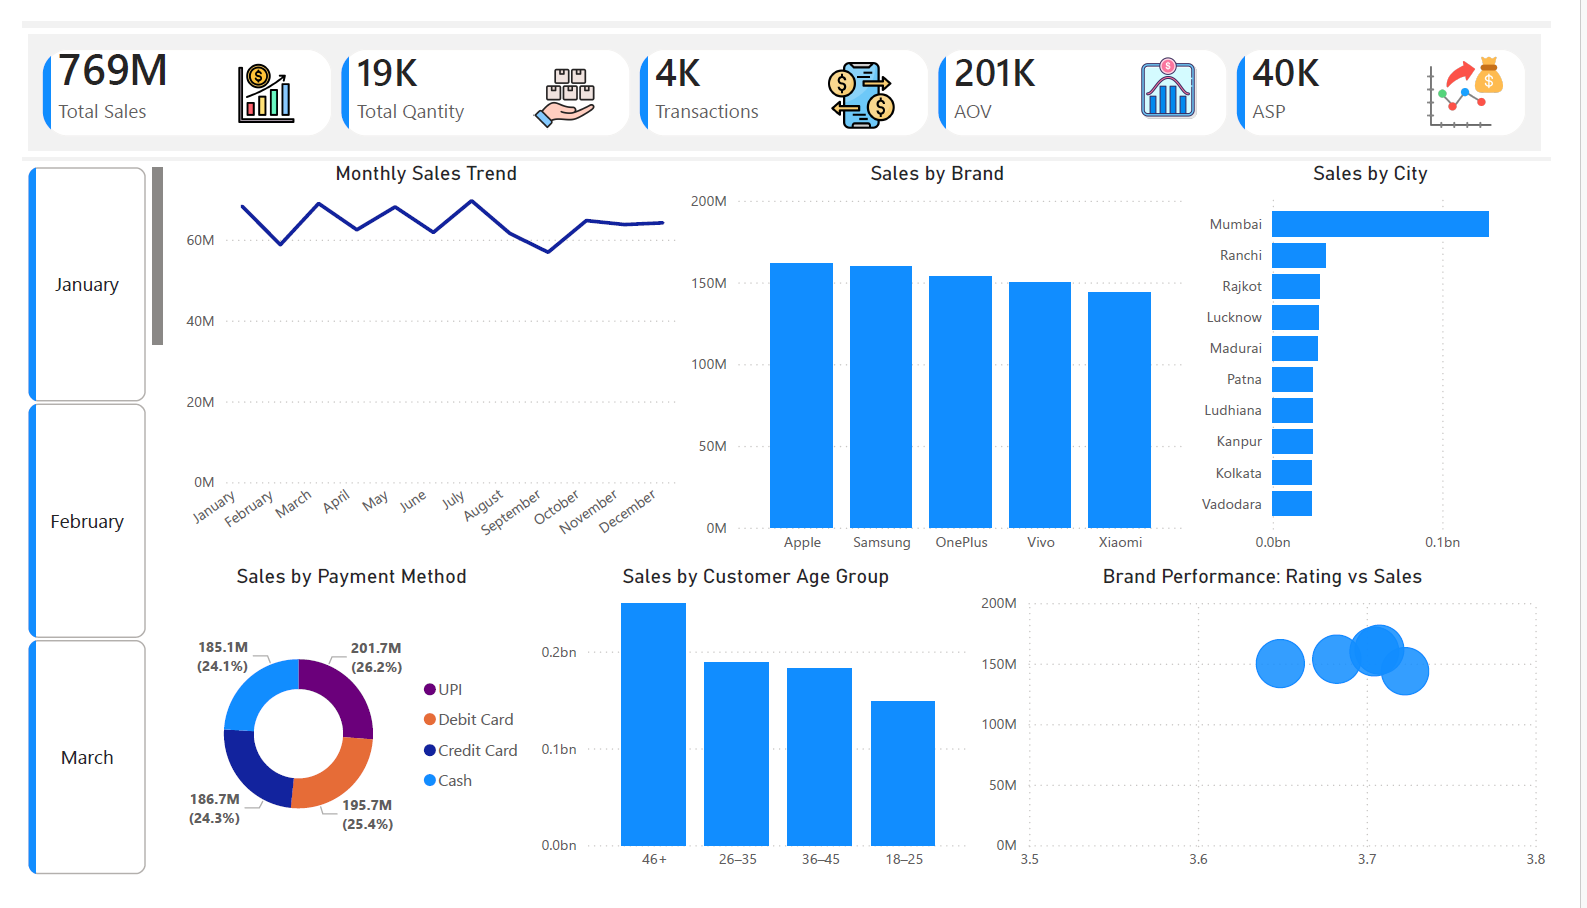

This screenshot's page, from the dashboard's own definition file:
{"tool":"powerbi","page":{"name":"Page 1","canvas":[1280,720],"ordinal":0},"visuals":[{"type":"cardVisual","fields":{"Data":["Mobile Sales Data.Total Sales","Mobile Sales Data.Total Qantity","Mobile Sales Data.Transections","Mobile Sales Data.AOV","Mobile Sales Data.ASP"]},"box":[0,6,1280,107.4],"z":0},{"type":"image","box":[178.6,30.2,51.9,60.3],"z":1000},{"type":"image","box":[418.6,38.6,68.8,51.9],"z":2000},{"type":"image","box":[674.4,30.2,56.7,62.7],"z":3000},{"type":"image","box":[933.8,20.5,53.1,70],"z":4000},{"type":"image","box":[1177.5,27.7,61.5,62.7],"z":5000},{"type":"advancedSlicerVisual","fields":{"Values":["Mobile Sales Data.Date.Variation.Date Hierarchy.Month"]},"box":[0,117,121.9,603.2],"z":6000},{"type":"lineChart","title":"Monthly Sales Trend","fields":{"Category":["Mobile Sales Data.Date.Variation.Date Hierarchy.Month"],"Y":["Mobile Sales Data.Total Sales"]},"box":[121.9,117,431.9,336.6],"z":7000},{"type":"clusteredColumnChart","title":"Sales by Brand","fields":{"Category":["Mobile Sales Data.Brand"],"Y":["Mobile Sales Data.Total Sales"]},"box":[553.8,117,424.7,336.6],"z":8000},{"type":"barChart","title":"Sales by City","fields":{"Category":["Mobile Sales Data.City"],"Y":["Mobile Sales Data.Total Sales"]},"box":[978.4,117,301.6,336.6],"z":9000},{"type":"donutChart","title":"Sales by Payment Method","fields":{"Category":["Mobile Sales Data.Payment Method"],"Y":["Mobile Sales Data.Total Sales"]},"box":[121.9,453.6,307.6,266.6],"z":10000},{"type":"clusteredColumnChart","title":"Sales by Customer Age Group","fields":{"Y":["Mobile Sales Data.Total Sales"],"Category":["Mobile Sales Data.Age Group"]},"box":[429.5,453.6,369.2,266.6],"z":11000},{"type":"scatterChart","title":"Brand Performance: Rating vs Sales","fields":{"X":["Mobile Sales Data.Average Ratings"],"Y":["Mobile Sales Data.Total Sales"],"Category":["Mobile Sales Data.Brand"],"Size":["Mobile Sales Data.Total Qantity"]},"box":[797.5,453.6,482.6,266.6],"z":11001}]}

Visuals, with their boxes in screenshot pixels (x1, y1, x2, y2), scaled from the page's 1280x720 canvas onto the 1587x908 screenshot:
cardVisual - Mobile Sales Data.Total Sales x Mobile Sales Data.Total Qantity: {"left": 0, "top": 8, "right": 1586, "bottom": 143}
image: {"left": 221, "top": 38, "right": 286, "bottom": 114}
image: {"left": 519, "top": 49, "right": 604, "bottom": 114}
image: {"left": 836, "top": 38, "right": 906, "bottom": 117}
image: {"left": 1158, "top": 26, "right": 1224, "bottom": 114}
image: {"left": 1460, "top": 35, "right": 1536, "bottom": 114}
advancedSlicerVisual - Mobile Sales Data.Date.Variation.Date Hierarchy.Month: {"left": 0, "top": 148, "right": 151, "bottom": 907}
"Monthly Sales Trend" lineChart: {"left": 151, "top": 148, "right": 687, "bottom": 572}
"Sales by Brand" clusteredColumnChart: {"left": 687, "top": 148, "right": 1213, "bottom": 572}
"Sales by City" barChart: {"left": 1213, "top": 148, "right": 1586, "bottom": 572}
"Sales by Payment Method" donutChart: {"left": 151, "top": 572, "right": 533, "bottom": 907}
"Sales by Customer Age Group" clusteredColumnChart: {"left": 533, "top": 572, "right": 990, "bottom": 907}
"Brand Performance: Rating vs Sales" scatterChart: {"left": 989, "top": 572, "right": 1586, "bottom": 907}
